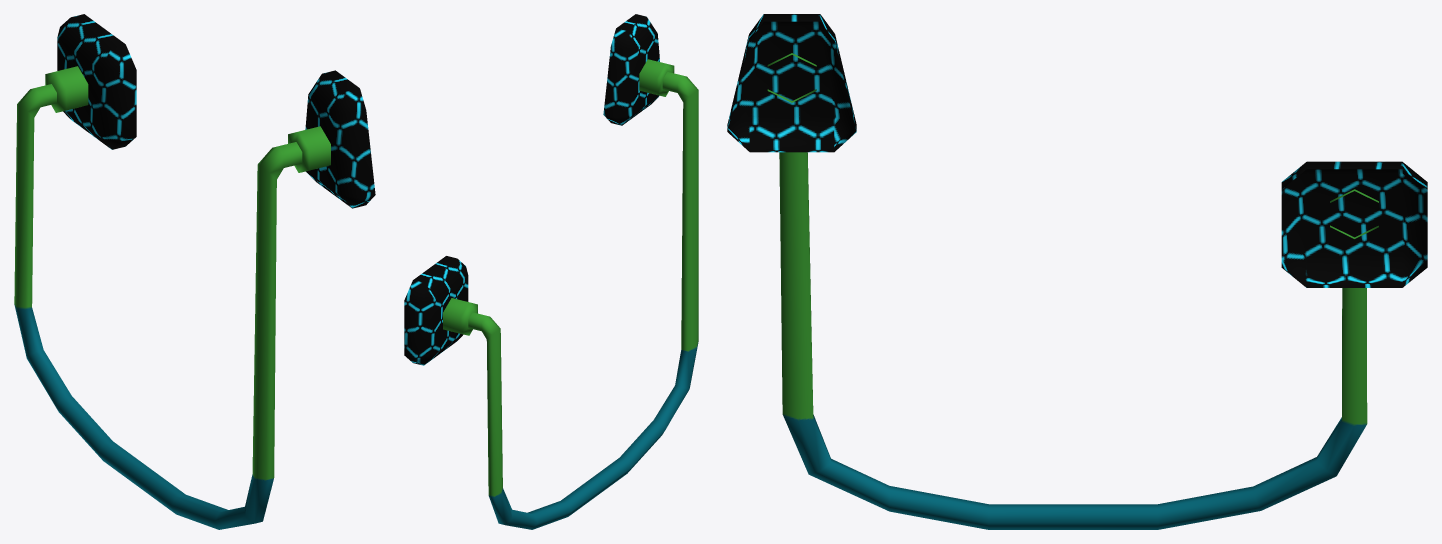
The model's file is SM_Power_Cord.fbx.
3 renders of one model, left to right at view 1: azimuth 30°, elevation 25°; view 2: azimuth 150°, elevation 25°; view 3: azimuth 270°, elevation 25°, orthographic. The views are drawn at different scales.
Visible parts, largest first — view 1: SM_Power_Cord; view 2: SM_Power_Cord; view 3: SM_Power_Cord.
Part boxes in pixels (x1,y1,x2,y2): SM_Power_Cord: (14,14,375,529); SM_Power_Cord: (404,14,698,529); SM_Power_Cord: (727,14,1427,529).
Size of the model in its own units: 18.05 by 103 by 89.74.
Materials: 1 (1 with a texture image).
